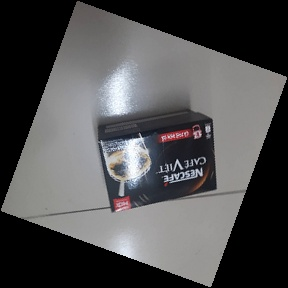CF Viet: (94, 107, 218, 216)
